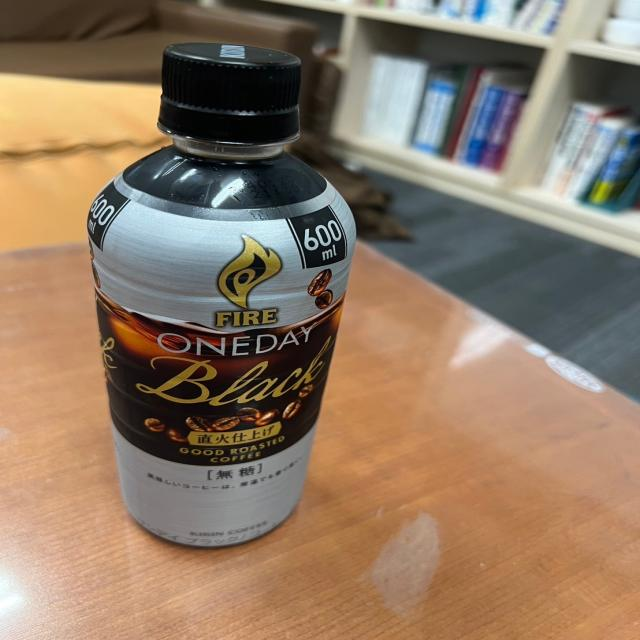coffee-black: (100, 42, 354, 550)
